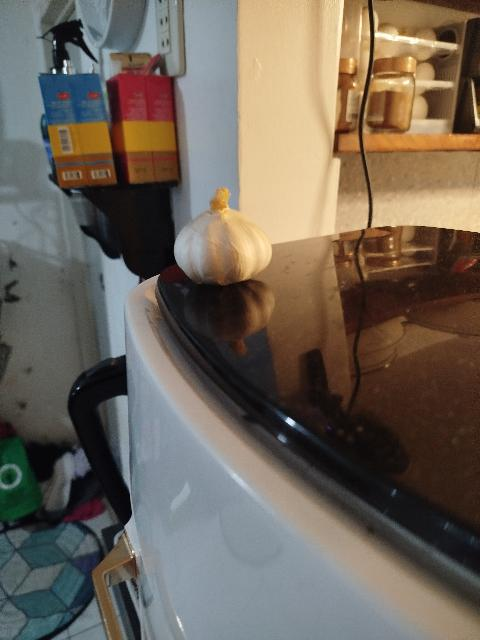garlic: (174, 188, 272, 286)
